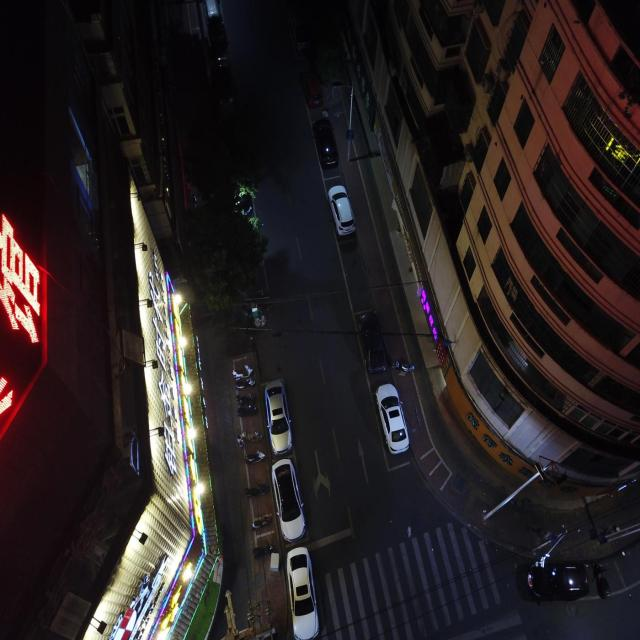car: (285, 546, 320, 640), (375, 383, 409, 454), (327, 184, 356, 237), (312, 118, 338, 168)
tree: (182, 172, 269, 324)
